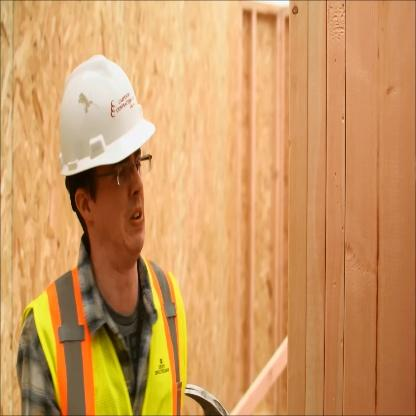helmet: (51, 44, 168, 271)
